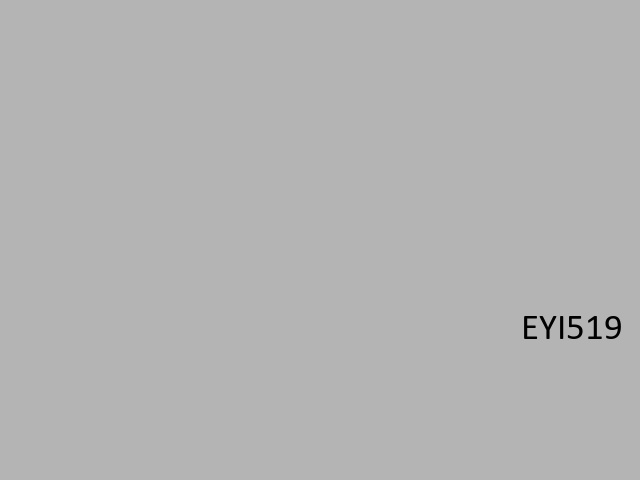OCR_AREA: (517, 312, 627, 343)
